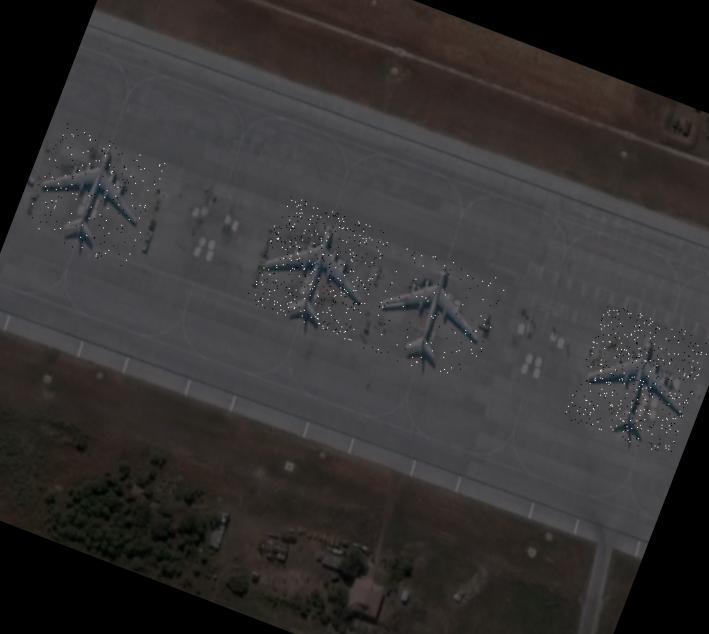A17: (563, 300, 709, 457), (244, 193, 392, 341), (20, 121, 168, 269), (362, 240, 509, 388)
